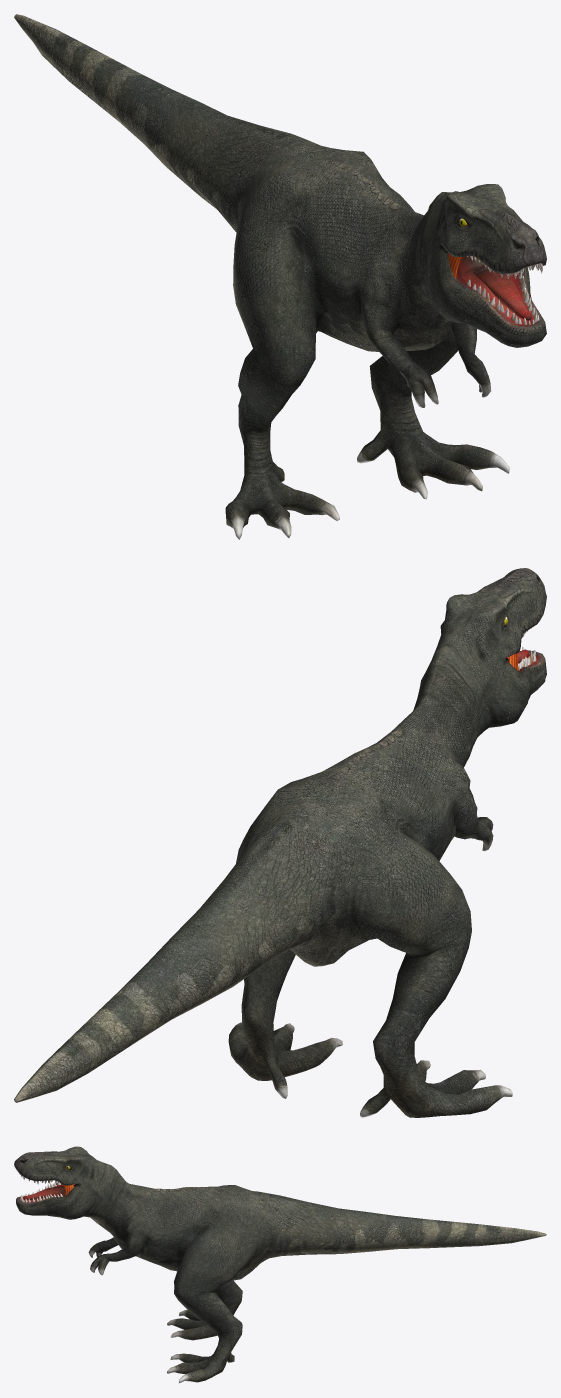
File: tyrant.glb
The picture shows the model from 3 angles, top to bottom: view 1: azimuth 30°, elevation 25°; view 2: azimuth 150°, elevation 25°; view 3: azimuth 270°, elevation 25°; orthographic projection. The views are drawn at different scales.
Size of the model in its own units: 479 by 660 by 1585.
1 material, 1 textured.
